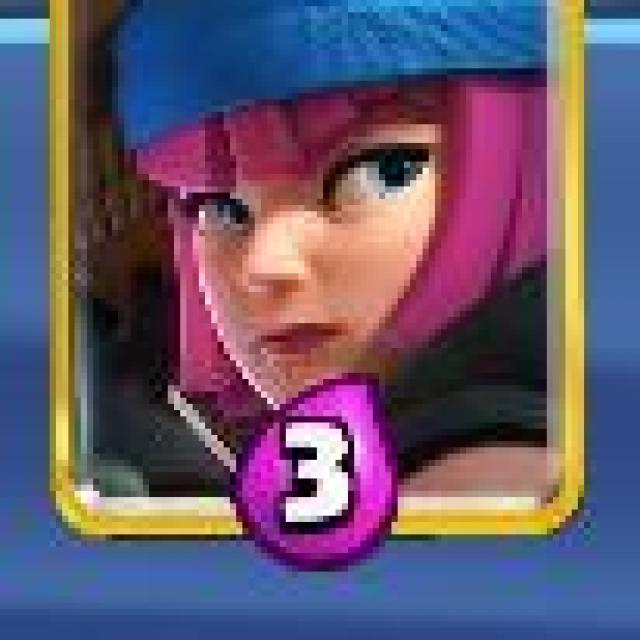Firecracker: (49, 0, 587, 539)
